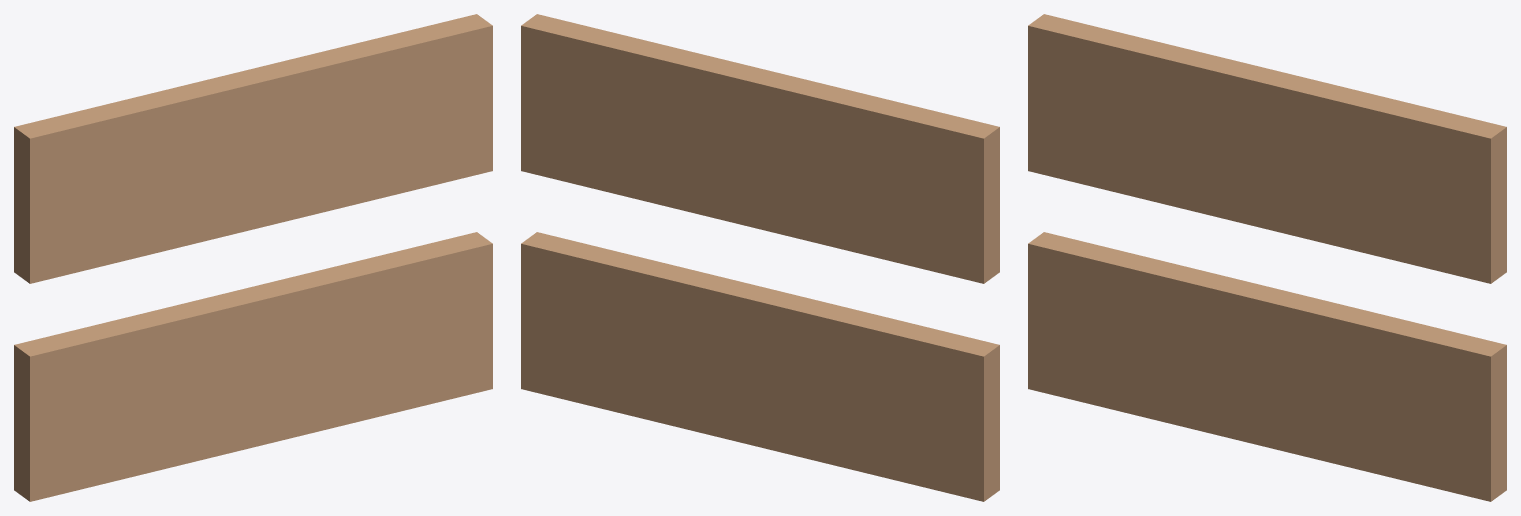
File: FenceMid.fbx
3 renders of one model, left to right at view 1: azimuth 30°, elevation 25°; view 2: azimuth 150°, elevation 25°; view 3: azimuth 330°, elevation 25°, orthographic.
Visible parts, largest first — view 1: FenceMid; view 2: FenceMid; view 3: FenceMid.
Boxes of the visible parts, left/top/right/bottom form: FenceMid: left=14, top=14, right=492, bottom=501; FenceMid: left=521, top=14, right=999, bottom=501; FenceMid: left=1028, top=14, right=1506, bottom=501.
Size of the model in its own units: 100 by 75 by 6.
